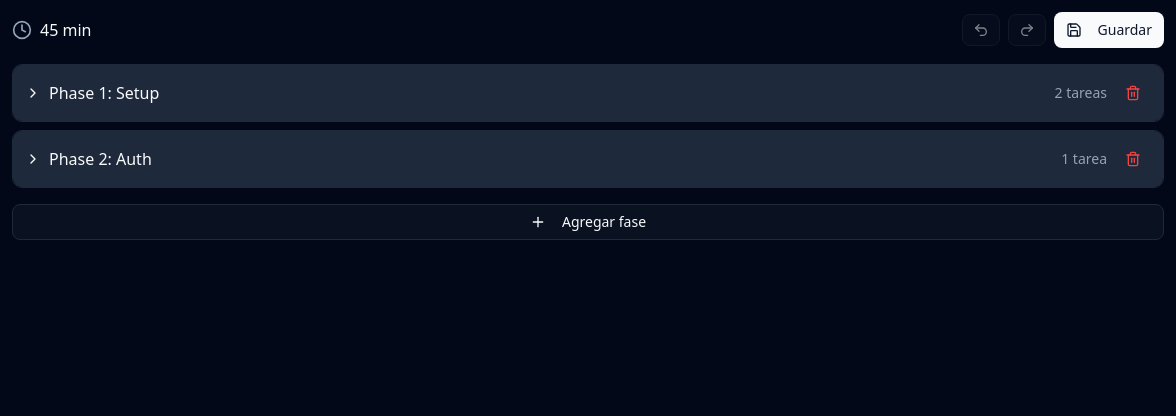
Test: PlanEditor › Undo/Redo › should support undo
This screenshot has width=1176, height=416.
Click the button "Phase 1: Setup" at [104, 93], box [25,81,1046,105]
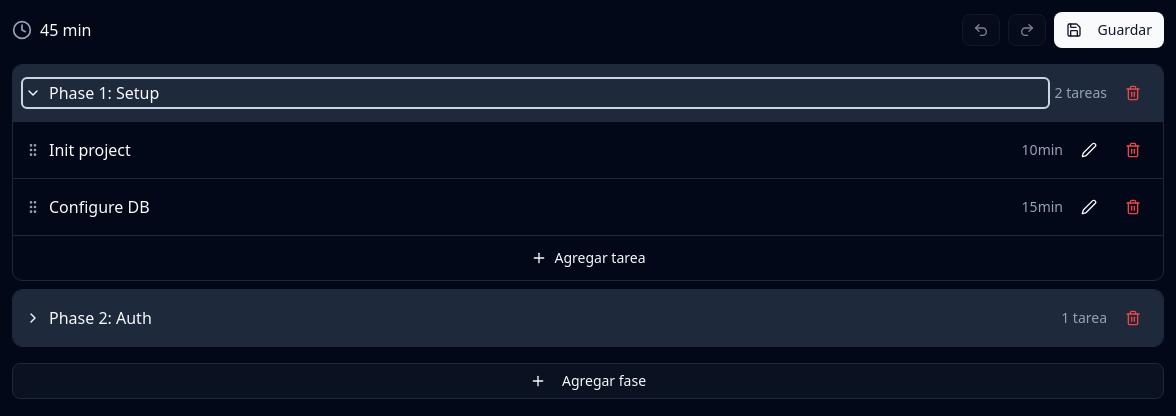
Click the button with test id "delete-task-t1" at [1133, 150], box [1115,134,1151,166]
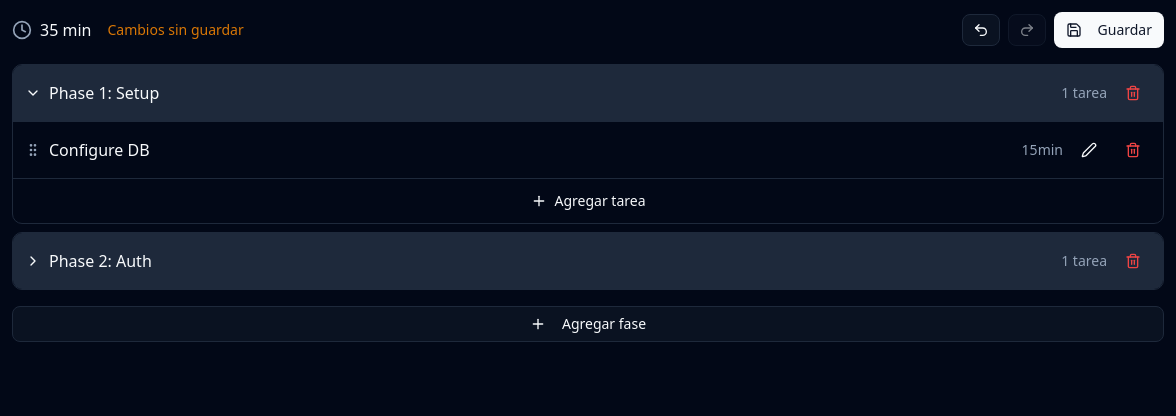
Expected: the text "Init project" is gone
Click the button named "deshacer" at [980, 30], box [962,14,1000,46]
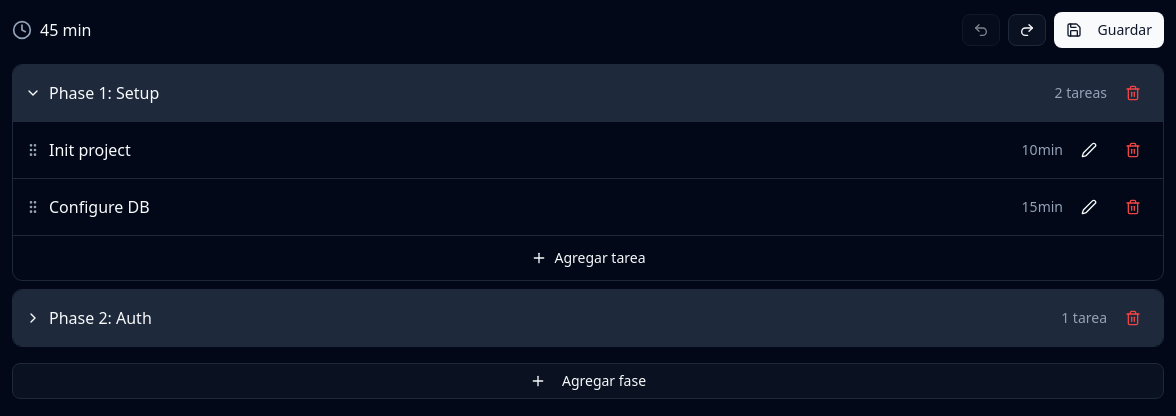
Expected: the text "Init project" is shown, [49,139,131,161]
